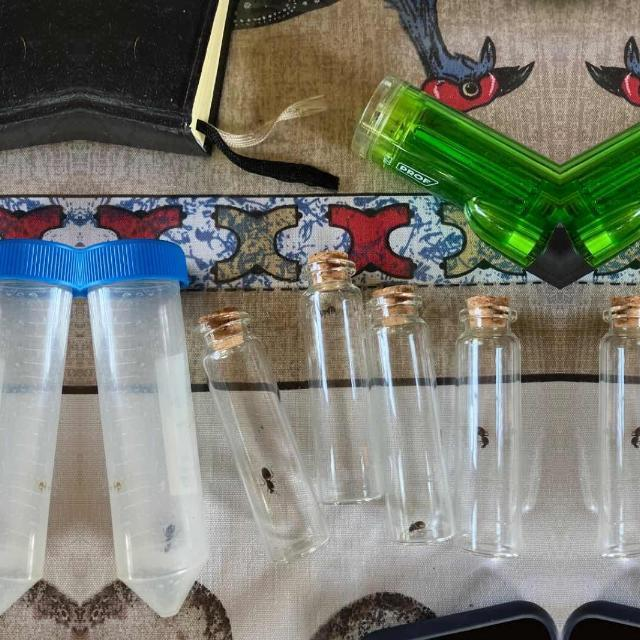Lasius: (260, 461, 278, 495), (478, 418, 492, 452), (626, 418, 640, 452), (406, 512, 426, 534), (314, 301, 336, 319)
